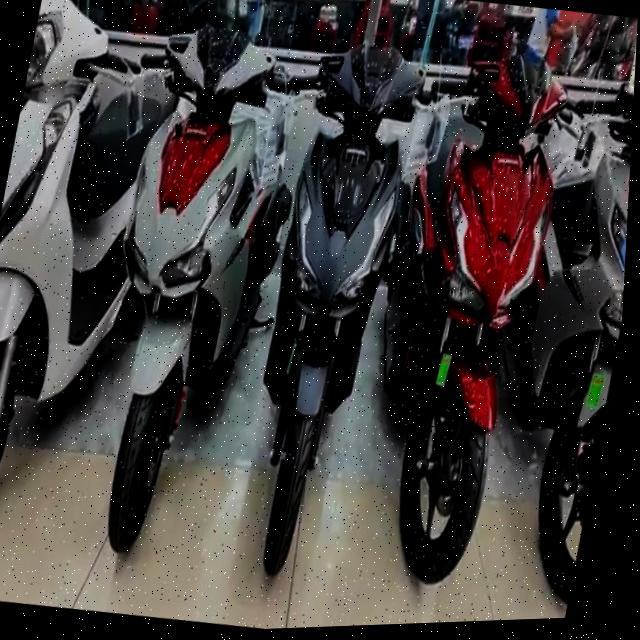motorcycle: (48, 0, 315, 572), (213, 5, 450, 585), (349, 30, 585, 599), (0, 0, 186, 574), (477, 54, 636, 620)
